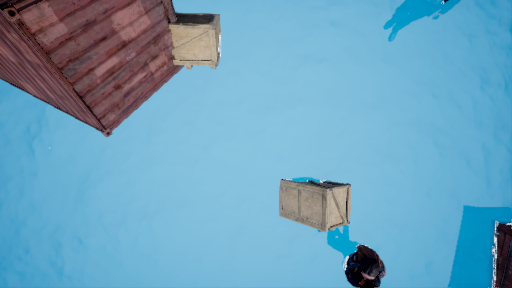person: (330, 230, 385, 288)
